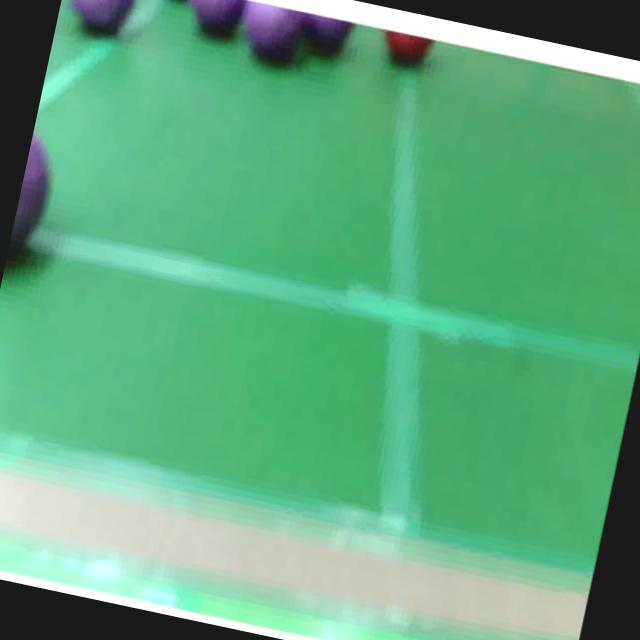purple_ball: (6, 132, 62, 262), (239, 0, 317, 70), (60, 0, 139, 36), (180, 0, 250, 39), (297, 12, 356, 58)
red_ball: (373, 28, 438, 70)
